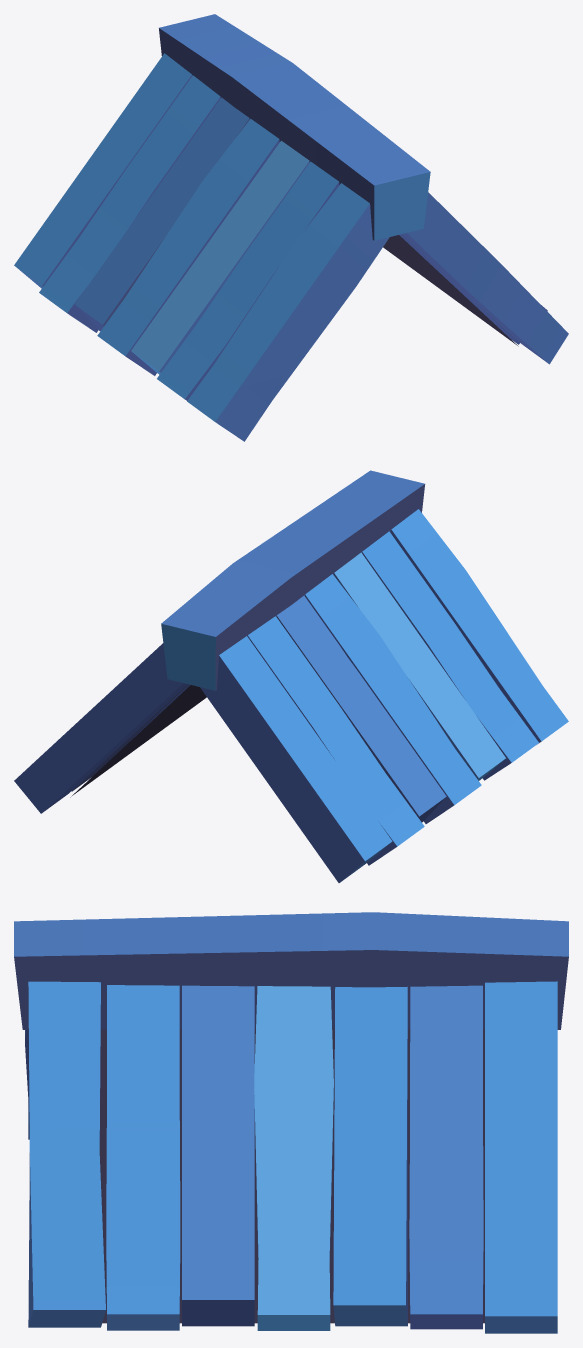
The model's file is Roof02_Blue.glb.
3 views of the same model, one above another, from view 1: azimuth 30°, elevation 25°; view 2: azimuth 150°, elevation 25°; view 3: azimuth 270°, elevation 25° (orthographic). The views are drawn at different scales.
Parts seen in each view (by area): view 1: Roof02_Blue; view 2: Roof02_Blue; view 3: Roof02_Blue.
Boxes of the visible parts, <box> form: Roof02_Blue: <box>14,14,568,441</box>; Roof02_Blue: <box>14,470,568,882</box>; Roof02_Blue: <box>14,912,568,1333</box>.
Bounding box in the file's own units: 2.41 × 1.49 × 2.46.
1 material, 1 textured.
